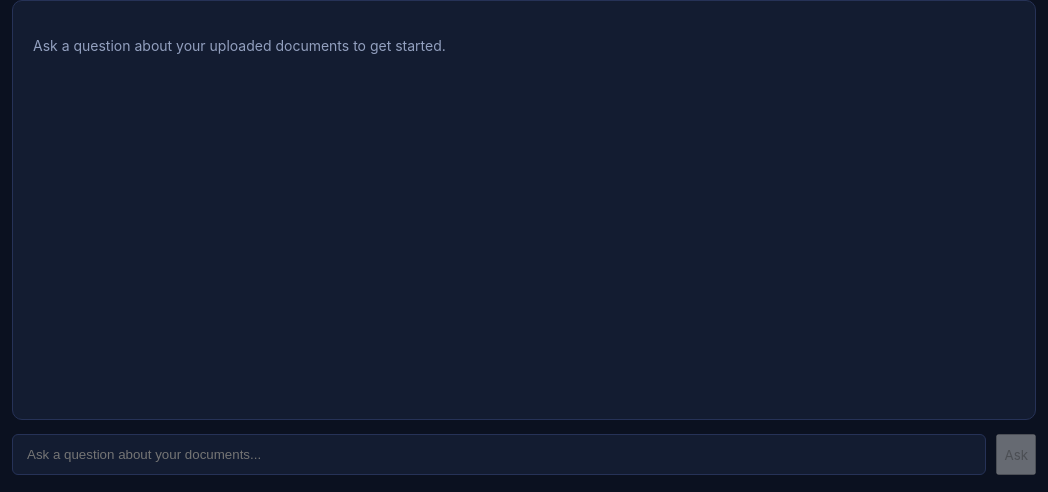
Test: ChatInterface › submits a question with a stable chat session id and shows answer and sources
Type "What is photosynthesis?" into the field labelled "Ask a question about your documents...". click: (499, 454)
box: [12,434,986,475]
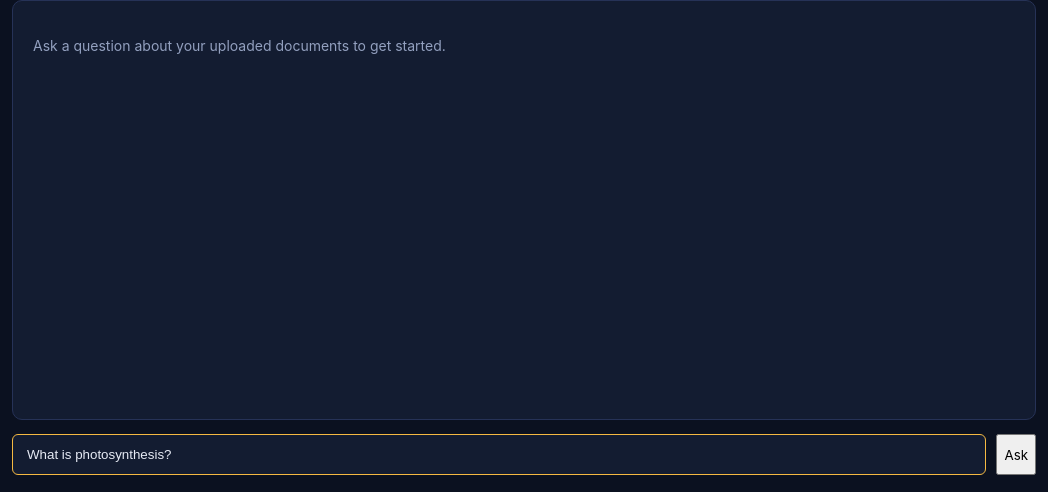
Click the button "Ask". click: (1016, 454)
box: [996,434,1036,475]
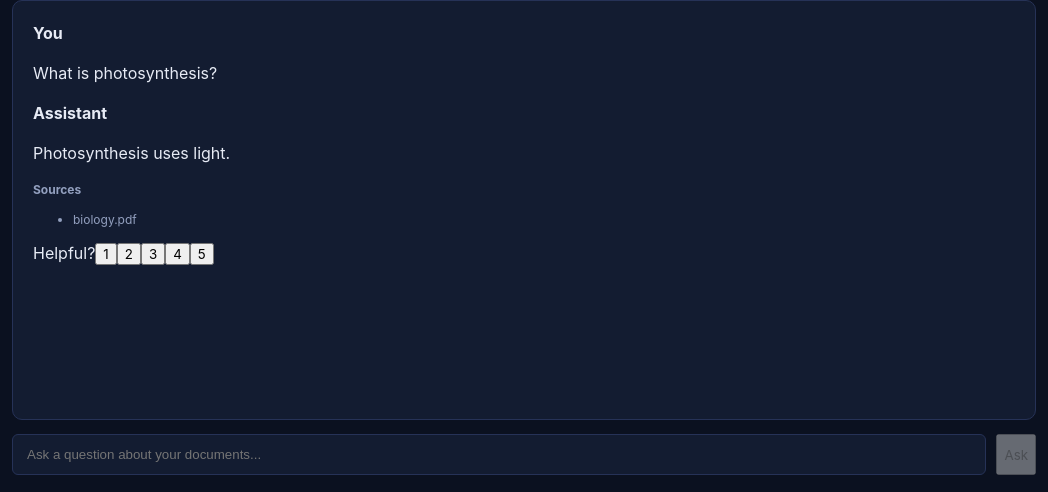
Now the text "Photosynthesis uses light." is shown, box [33,143,230,163]
Now the list item "biology.pdf" is shown, box [73,212,137,227]
